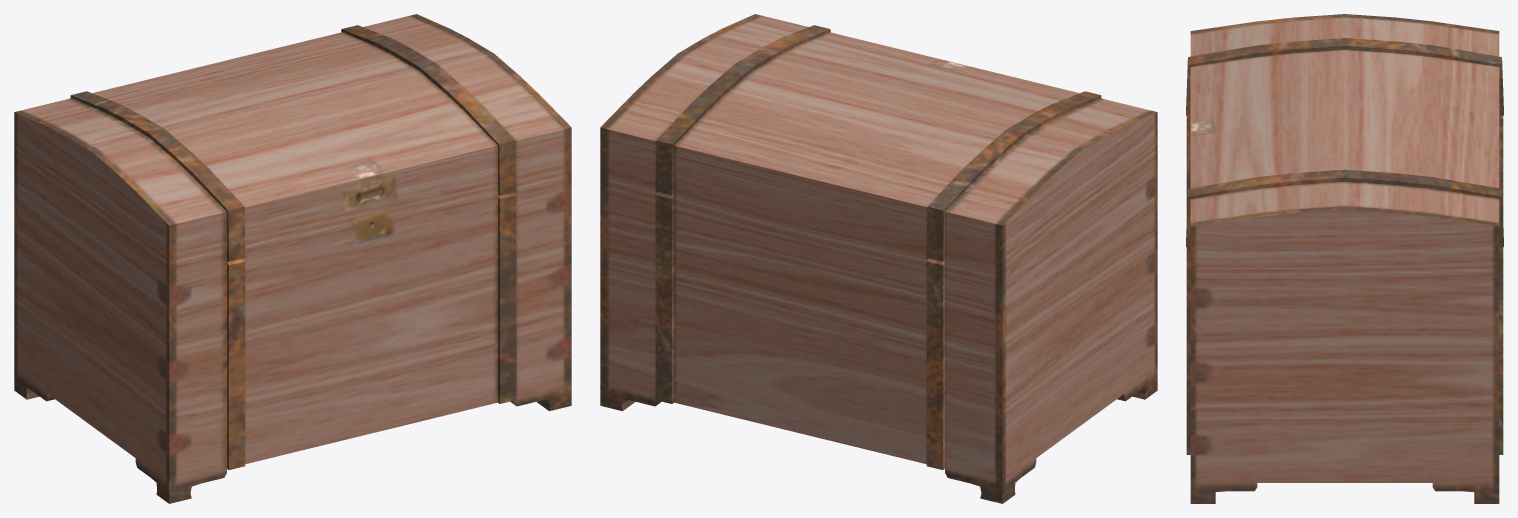
The model's file is chest.fbx.
3 renders of one model, left to right at view 1: azimuth 30°, elevation 25°; view 2: azimuth 150°, elevation 25°; view 3: azimuth 270°, elevation 25°, orthographic.
Visible parts, largest first — view 1: chestMesh2; view 2: chestMesh2; view 3: chestMesh2.
Boxes of the visible parts, box(x1,y1,x2,y2) form: chestMesh2: box(14, 14, 571, 503); chestMesh2: box(600, 14, 1157, 503); chestMesh2: box(1186, 14, 1503, 503).
Bounding box in the file's own units: 150 × 107 × 103.
